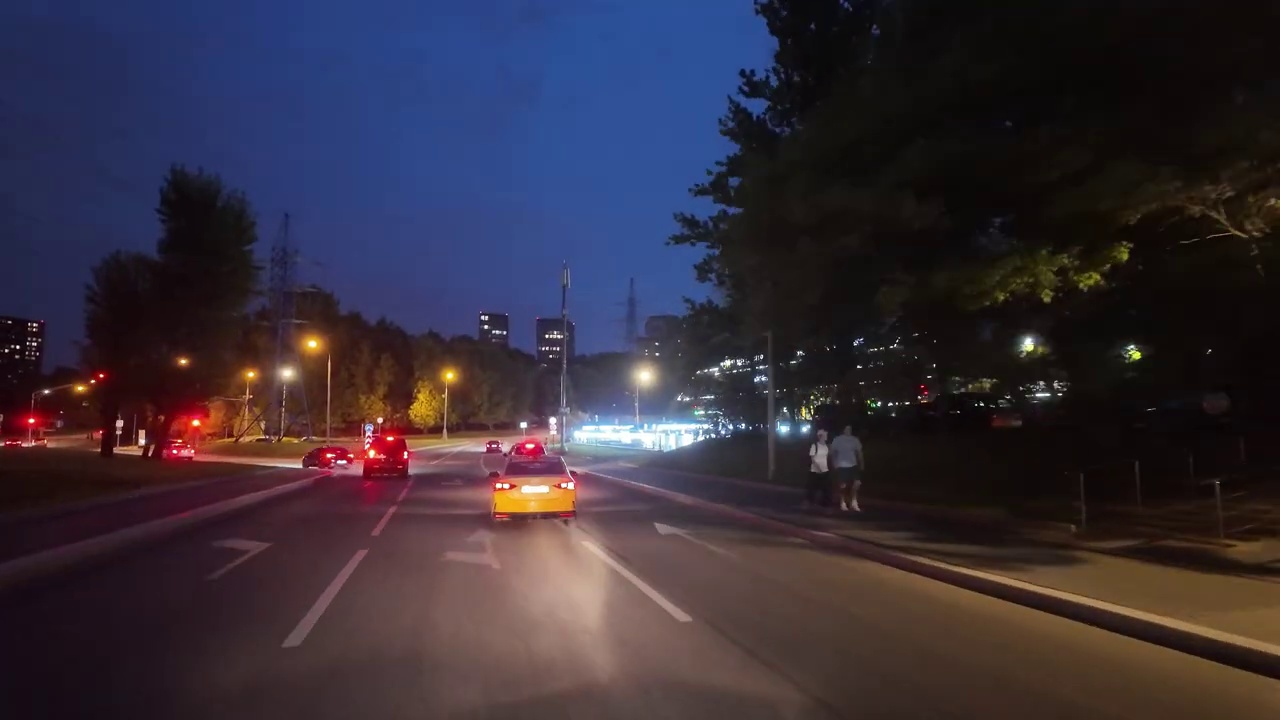acesa: (630, 361, 662, 391), (299, 332, 328, 358), (438, 364, 461, 387)
